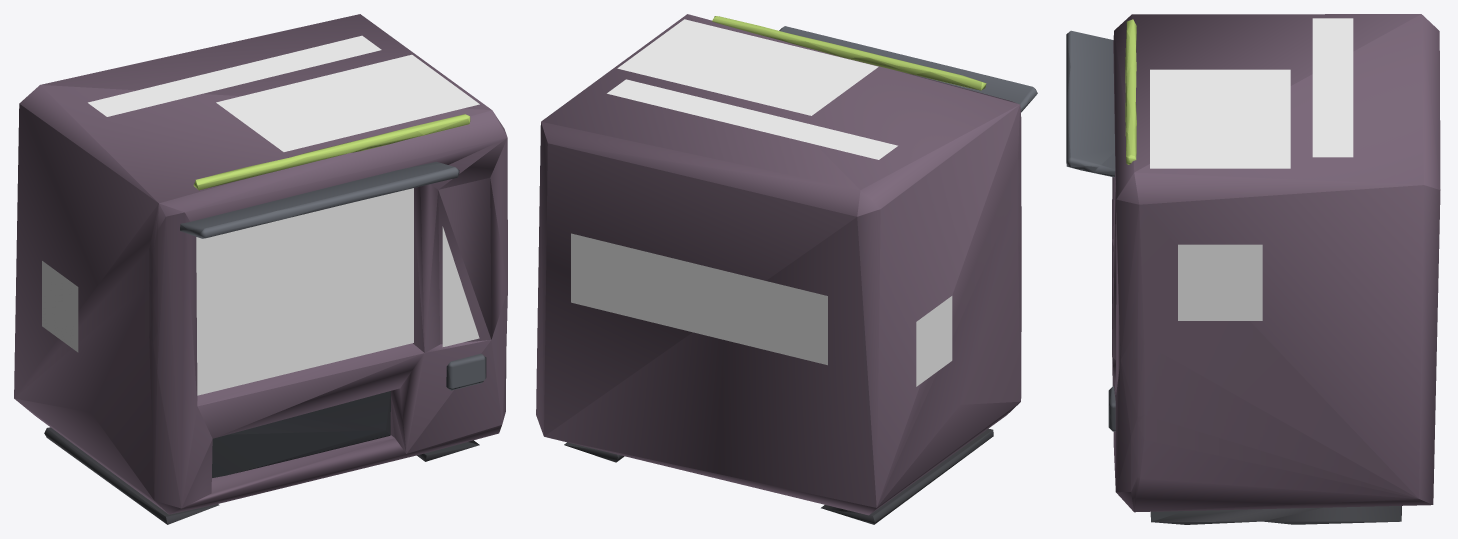
File: distributeur_b.glb
The picture shows the model from 3 angles, left to right: view 1: azimuth 30°, elevation 25°; view 2: azimuth 150°, elevation 25°; view 3: azimuth 270°, elevation 25°; orthographic projection. The views are drawn at different scales.
Parts seen in each view (by area): view 1: distributeur_b, distributeur_b_decallit, distributeur_b_decal, distributeur_b_glow; view 2: distributeur_b, distributeur_b_decal, distributeur_b_glow; view 3: distributeur_b, distributeur_b_decal, distributeur_b_glow.
Boxes of the visible parts, x1=… form: distributeur_b: x1=14, y1=14, x2=507, y2=524; distributeur_b_decallit: x1=196, y1=188, x2=479, y2=395; distributeur_b_decal: x1=42, y1=35, x2=479, y2=352; distributeur_b_glow: x1=193, y1=114, x2=470, y2=190; distributeur_b: x1=536, y1=14, x2=1037, y2=524; distributeur_b_decal: x1=571, y1=19, x2=952, y2=386; distributeur_b_glow: x1=712, y1=16, x2=986, y2=90; distributeur_b: x1=1066, y1=14, x2=1440, y2=524; distributeur_b_decal: x1=1150, y1=18, x2=1353, y2=320; distributeur_b_glow: x1=1125, y1=19, x2=1136, y2=164.
Bounding box in the file's own units: 0.912 × 0.8611 × 0.8043.
